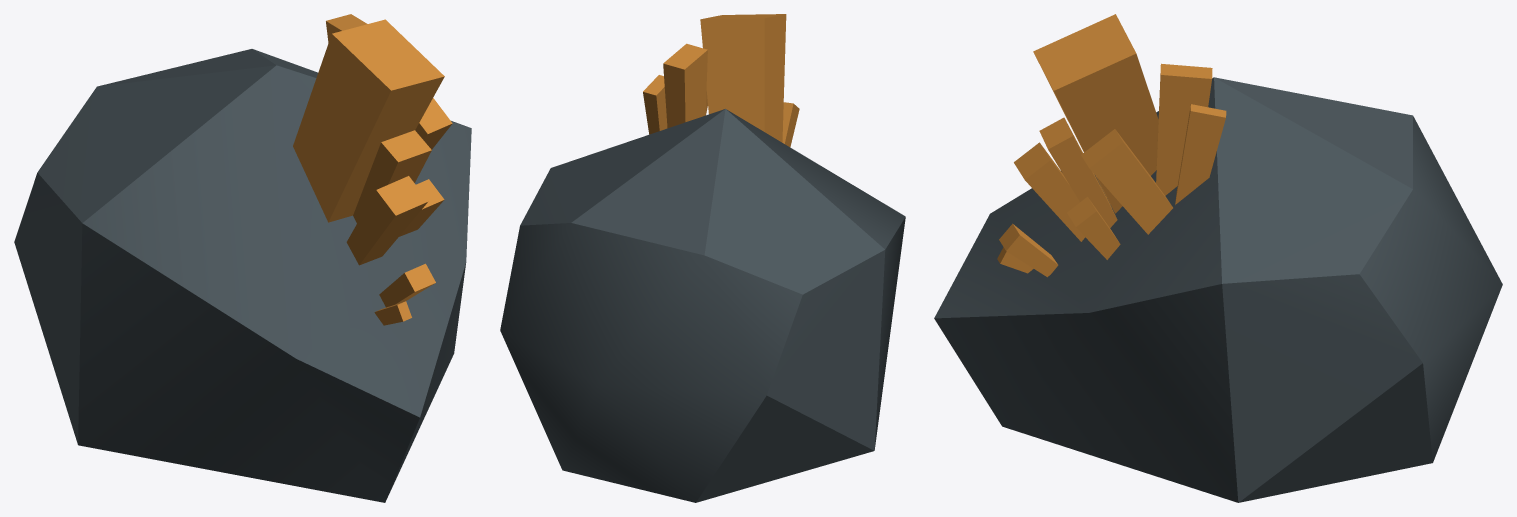
The model's file is hallie_topaz.fbx.
3 renders of one model, left to right at view 1: azimuth 30°, elevation 25°; view 2: azimuth 150°, elevation 25°; view 3: azimuth 270°, elevation 25°, orthographic. The views are drawn at different scales.
Parts seen in each view (by area): view 1: m_oreRock1, m_topazGem, m_topazGem3, m_topazGem2, m_topazGem7, m_topazGem6, m_topazGem4, m_topazGem8, m_topazGem1; view 2: m_oreRock1, m_topazGem, m_topazGem1, m_topazGem5, m_topazGem3; view 3: m_oreRock1, m_topazGem, m_topazGem1, m_topazGem6, m_topazGem5, m_topazGem2, m_topazGem3, m_topazGem4, m_topazGem7.
Part boxes in pixels (left/top/right/bottom): m_oreRock1: left=14, top=49, right=471, bottom=502; m_topazGem: left=293, top=19, right=444, bottom=222; m_topazGem3: left=346, top=176, right=428, bottom=265; m_topazGem2: left=353, top=130, right=431, bottom=223; m_topazGem7: left=379, top=263, right=435, bottom=307; m_topazGem6: left=415, top=98, right=452, bottom=149; m_topazGem4: left=399, top=179, right=444, bottom=236; m_topazGem8: left=374, top=301, right=411, bottom=325; m_topazGem1: left=326, top=14, right=367, bottom=42; m_oreRock1: left=500, top=109, right=905, bottom=502; m_topazGem: left=700, top=14, right=786, bottom=142; m_topazGem1: left=663, top=43, right=707, bottom=128; m_topazGem5: left=643, top=75, right=667, bottom=134; m_topazGem3: left=782, top=102, right=799, bottom=146; m_oreRock1: left=934, top=77, right=1502, bottom=502; m_topazGem: left=1033, top=14, right=1158, bottom=213; m_topazGem1: left=1156, top=63, right=1212, bottom=195; m_topazGem6: left=1081, top=129, right=1172, bottom=234; m_topazGem5: left=1175, top=104, right=1226, bottom=204; m_topazGem2: left=1039, top=117, right=1117, bottom=227; m_topazGem3: left=1014, top=142, right=1085, bottom=241; m_topazGem4: left=1067, top=197, right=1120, bottom=259; m_topazGem7: left=999, top=223, right=1058, bottom=277.
Bounding box in the file's own units: 0.7017 × 0.7326 × 0.9102.
